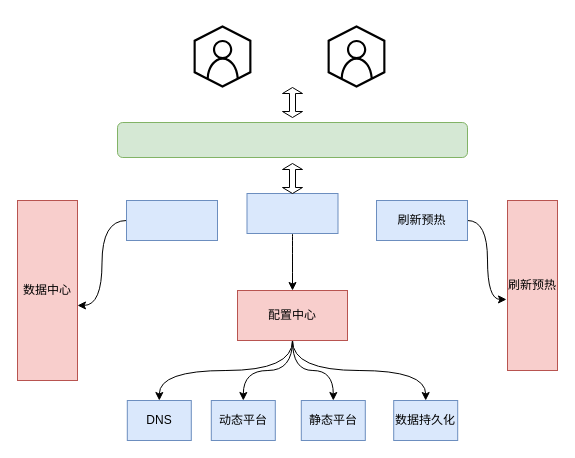
The diagram is 575 pixels wide and 458 high, and some of its shapes have lost their labels. The shapes that lost their labels are listed below. From the top down, each one's box as (x1, y1, x2, y2) in pixels, then its label:
(116, 122, 468, 158): 云API
(126, 200, 218, 240): 数据服务
(246, 192, 338, 234): 域名配置服务
